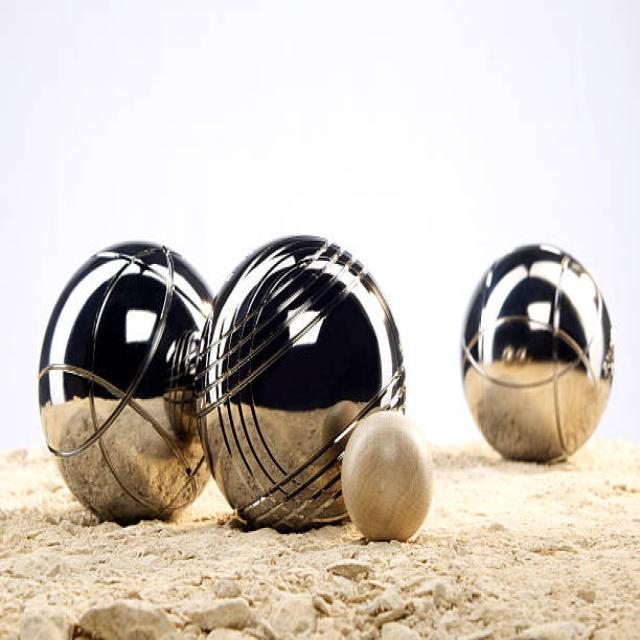hatball: (333, 410, 443, 558)
petanque: (196, 232, 412, 535), (34, 242, 215, 532), (454, 235, 621, 467)
